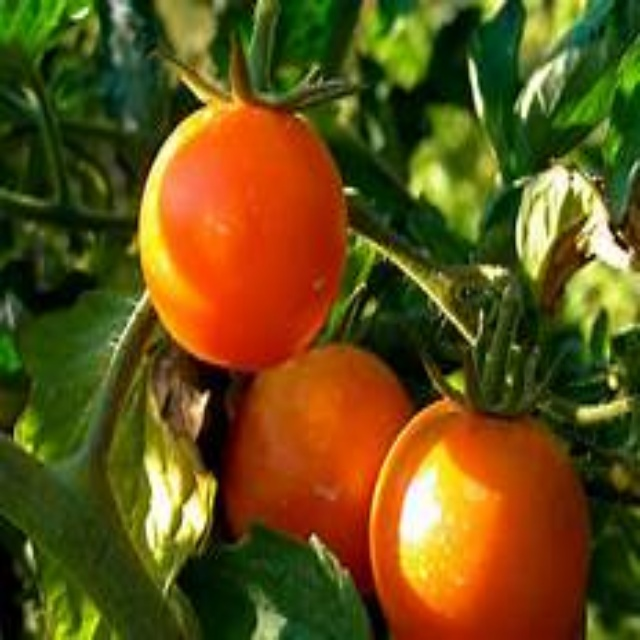tomato: (133, 96, 344, 367), (370, 388, 594, 633), (211, 341, 399, 571)
